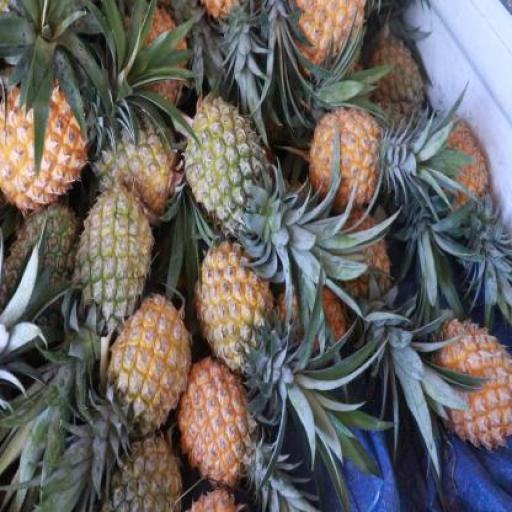------------------------------: (108, 297, 189, 434), (82, 187, 156, 321), (183, 94, 260, 222), (176, 354, 251, 485), (97, 114, 174, 202), (202, 455, 284, 512)
Pineapple - v8 v1: (0, 78, 92, 208), (432, 316, 512, 448), (196, 240, 270, 356), (310, 110, 380, 212)
